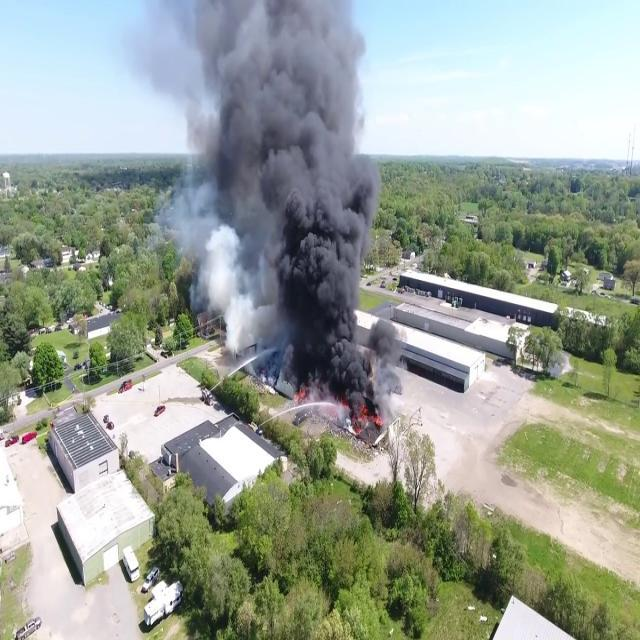Smoke: (121, 0, 408, 421)
